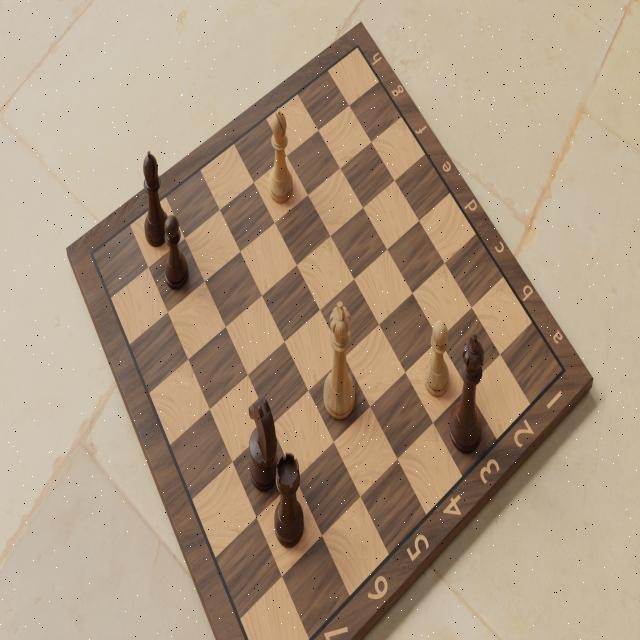black-bishop: (139, 148, 167, 247)
black-king: (446, 333, 486, 458)
black-knight: (244, 395, 280, 495)
black-pawn: (160, 213, 191, 294)
black-rook: (271, 450, 306, 549)
white-bishop: (267, 107, 293, 205)
white-king: (319, 301, 359, 423)
white-pawn: (423, 320, 450, 400)
